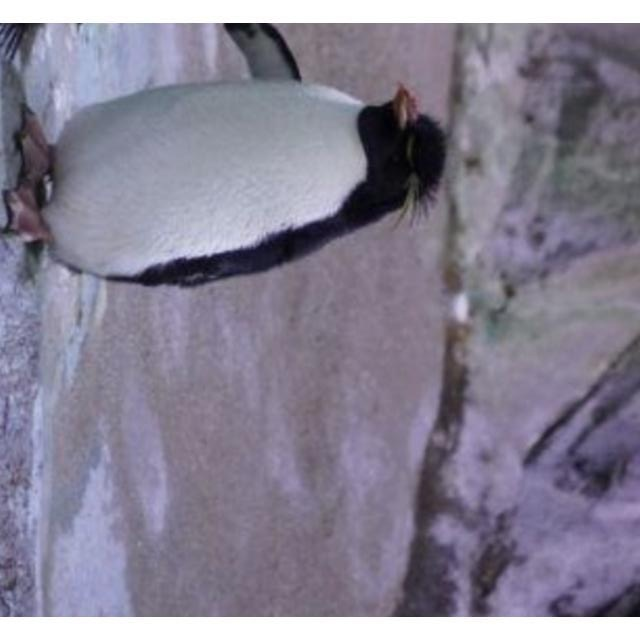penguin: (5, 26, 443, 289)
